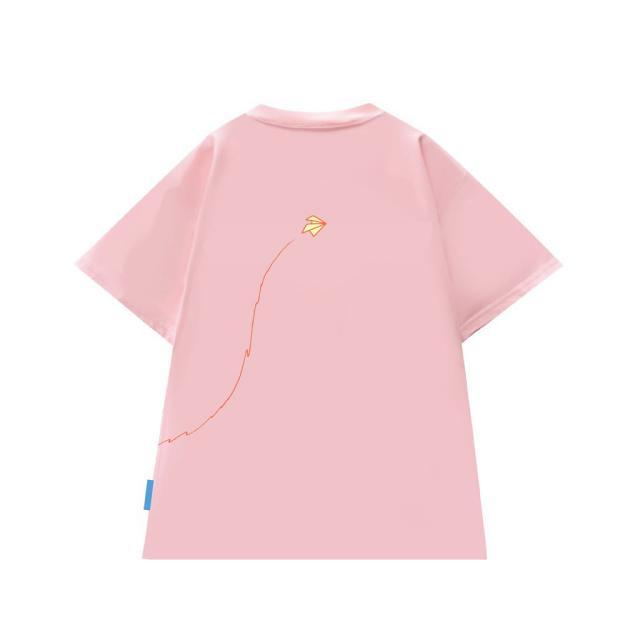Shirt: (80, 105, 560, 563)
